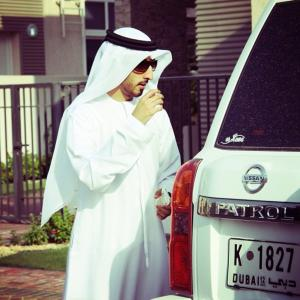Vehicle-registration-plate: (229, 232, 295, 291)
